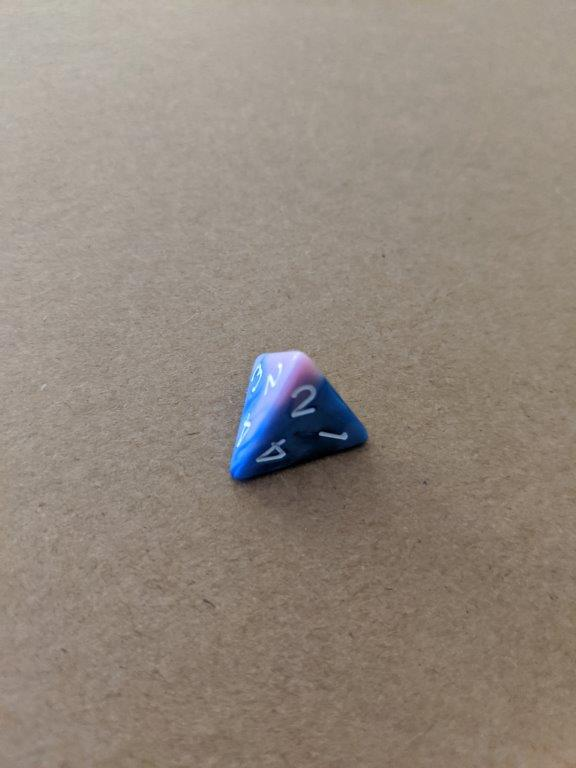d4-2: (222, 346, 376, 488)
